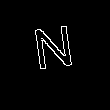N_S: (35, 25, 82, 80)
